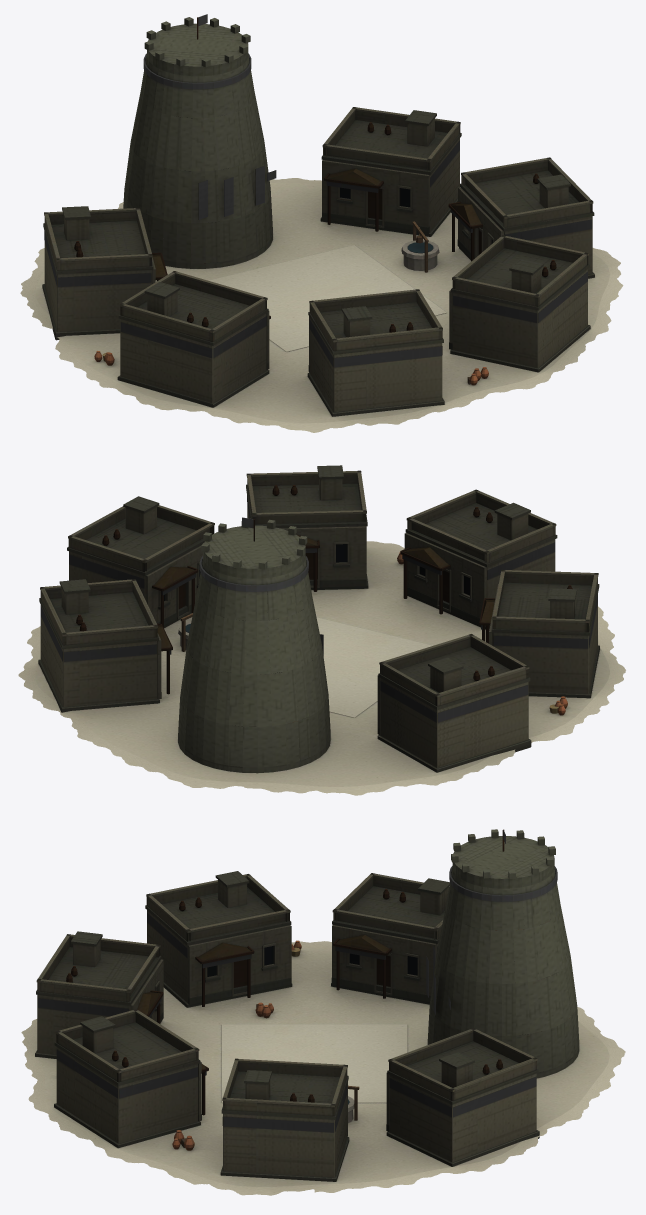
Rendered from classical-town-small-b-eastafrica.glb.
3 renders of one model, top to bottom at view 1: azimuth 30°, elevation 25°; view 2: azimuth 150°, elevation 25°; view 3: azimuth 270°, elevation 25°, orthographic.
Parts seen in each view (by area): view 1: LOD0; view 2: LOD0; view 3: LOD0.
Part boxes in pixels (box(x1,y1,x2,y2)): LOD0: box(20, 14, 623, 432); LOD0: box(18, 465, 625, 795); LOD0: box(21, 829, 625, 1195).
Size of what is drawn, in the model's own units: 3.98 by 1.6 by 4.
3 materials, 3 textured.
